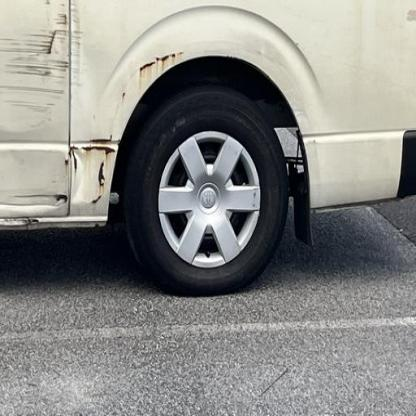Tire: (122, 89, 288, 298)
